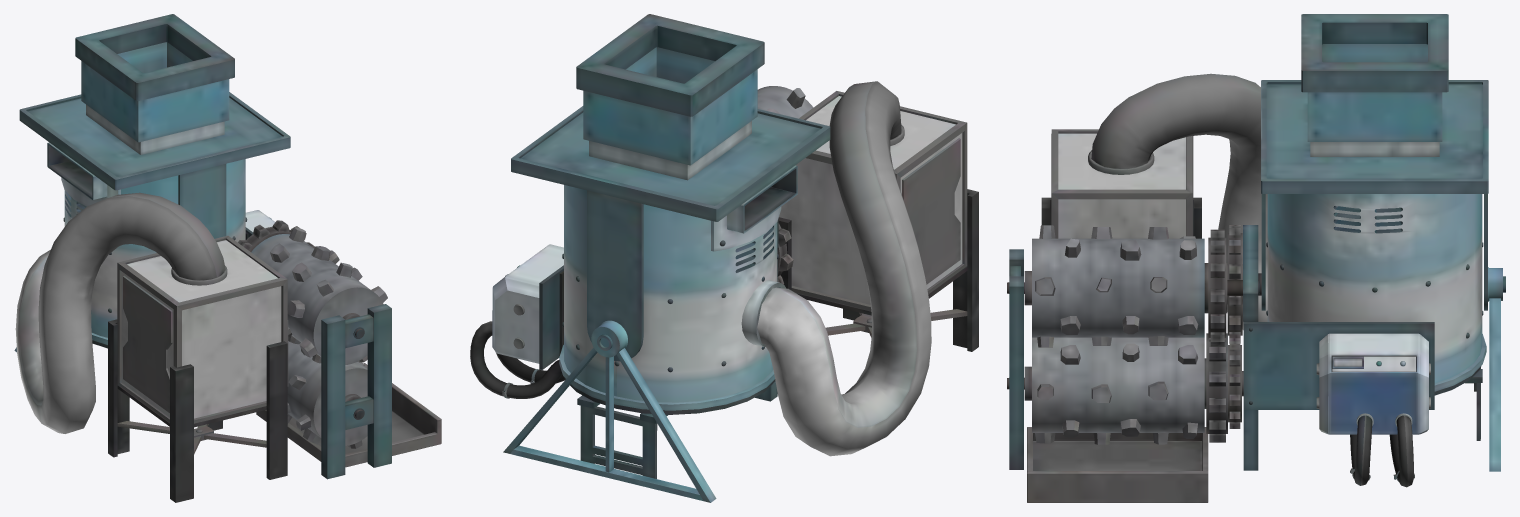
File: SK_FrozenCrusher_4bb360.glb
3 renders of one model, left to right at view 1: azimuth 30°, elevation 25°; view 2: azimuth 150°, elevation 25°; view 3: azimuth 270°, elevation 25°, orthographic. The views are drawn at different scales.
Bounding box in the file's own units: 3.38 × 3.28 × 3.86.
1 material, 1 textured.
